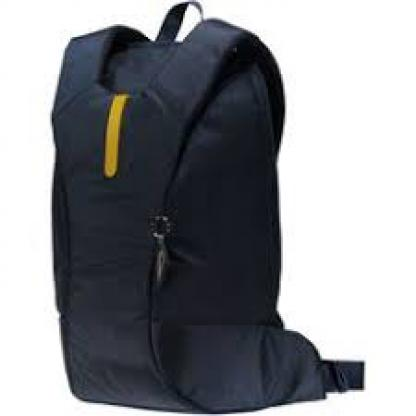morral: (46, 2, 379, 412)
